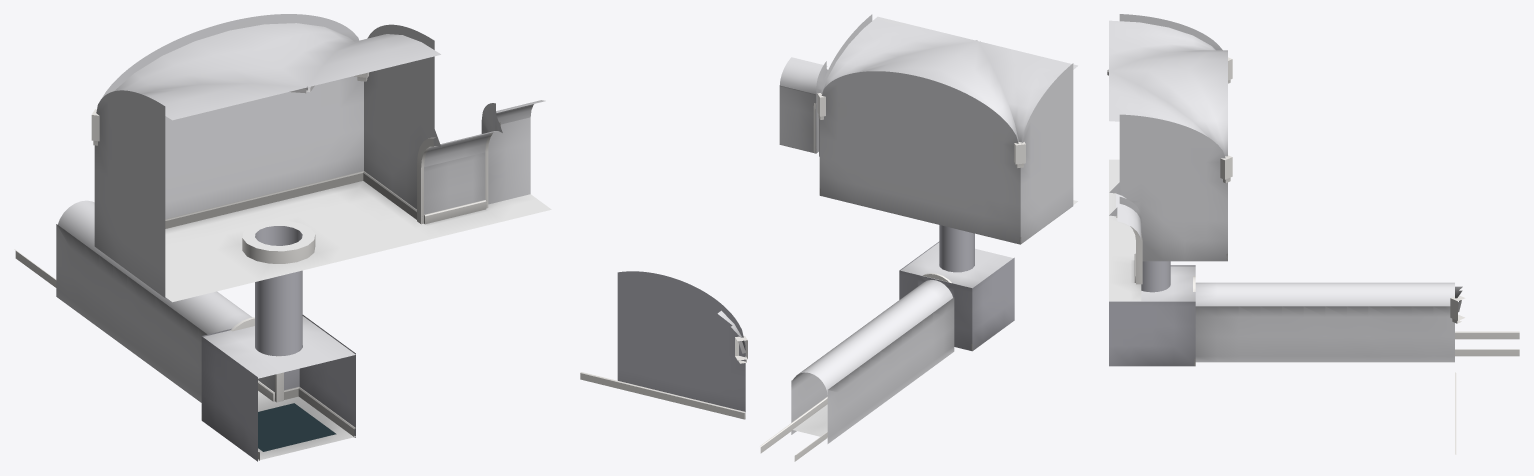
File: crypt_01_ab.glb
3 views of the same model, side by side, from view 1: azimuth 30°, elevation 25°; view 2: azimuth 150°, elevation 25°; view 3: azimuth 270°, elevation 25° (orthographic). The views are drawn at different scales.
Visible parts, largest first — view 1: crypt_01_ab; view 2: crypt_01_ab; view 3: crypt_01_ab.
Part boxes in pixels (box(x1,y1,x2,y2)): crypt_01_ab: box(14, 14, 551, 461); crypt_01_ab: box(580, 14, 1077, 461); crypt_01_ab: box(1107, 14, 1519, 454).
Size of the model in its own units: 18.21 by 14.75 by 19.08.
